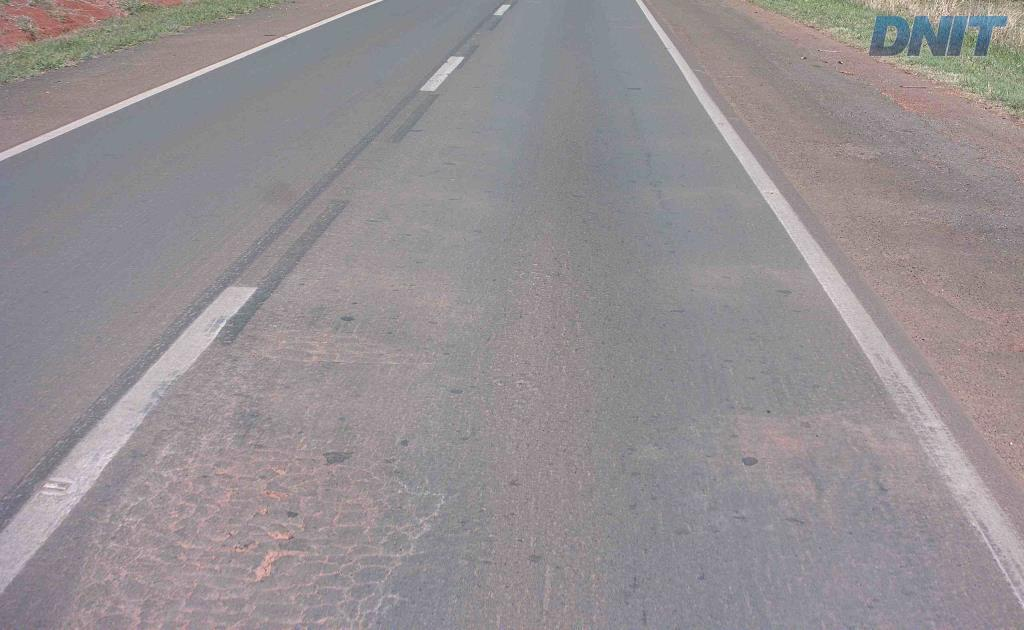pothole: (242, 547, 308, 587), (221, 533, 255, 556), (264, 526, 297, 543)
